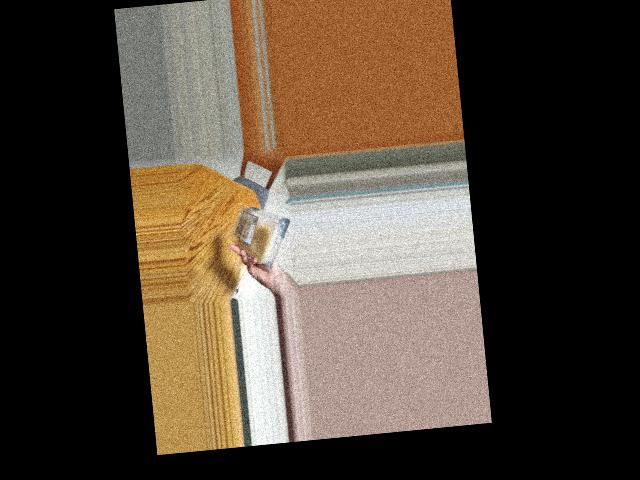cheese: (238, 201, 289, 272)
